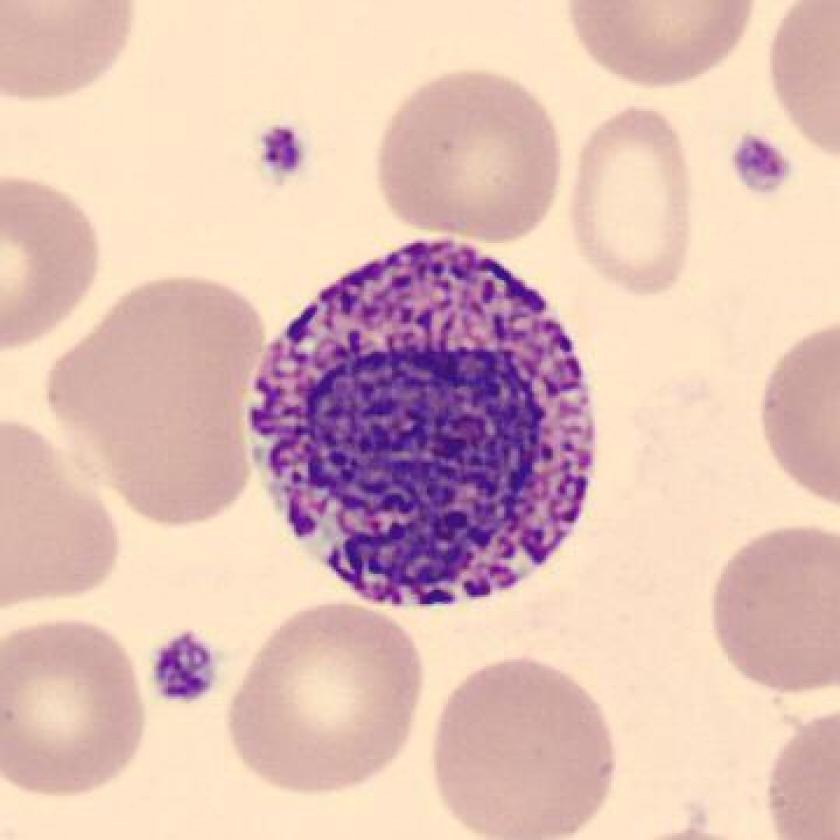basophil: (251, 228, 608, 614)
